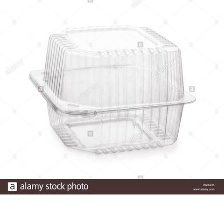plastic_box: (21, 16, 202, 163)
